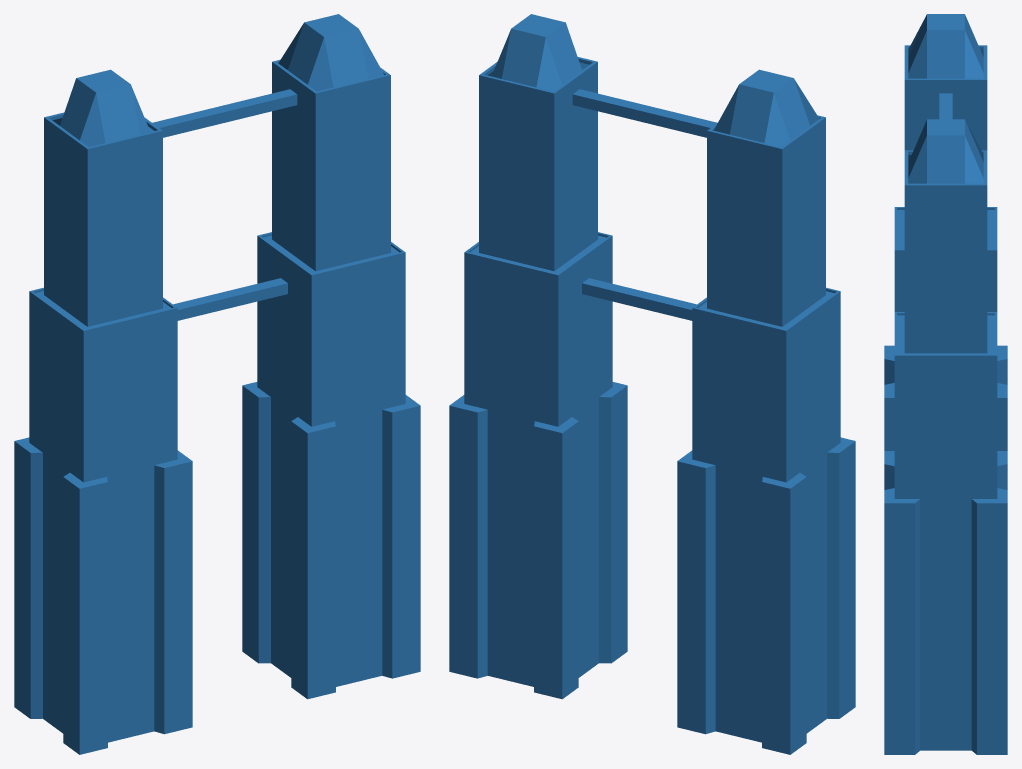
Rendered from TwoTowerModel.fbx.
3 views of the same model, side by side, from view 1: azimuth 30°, elevation 25°; view 2: azimuth 150°, elevation 25°; view 3: azimuth 270°, elevation 25° (orthographic). The views are drawn at different scales.
Parts seen in each view (by area): view 1: Building_3; view 2: Building_3; view 3: Building_3.
Part boxes in pixels (box(x1,y1,x2,y2)): Building_3: box(14, 14, 420, 754); Building_3: box(449, 14, 855, 754); Building_3: box(884, 14, 1007, 754).
Size of the model in its own units: 722 by 1286 by 239.
